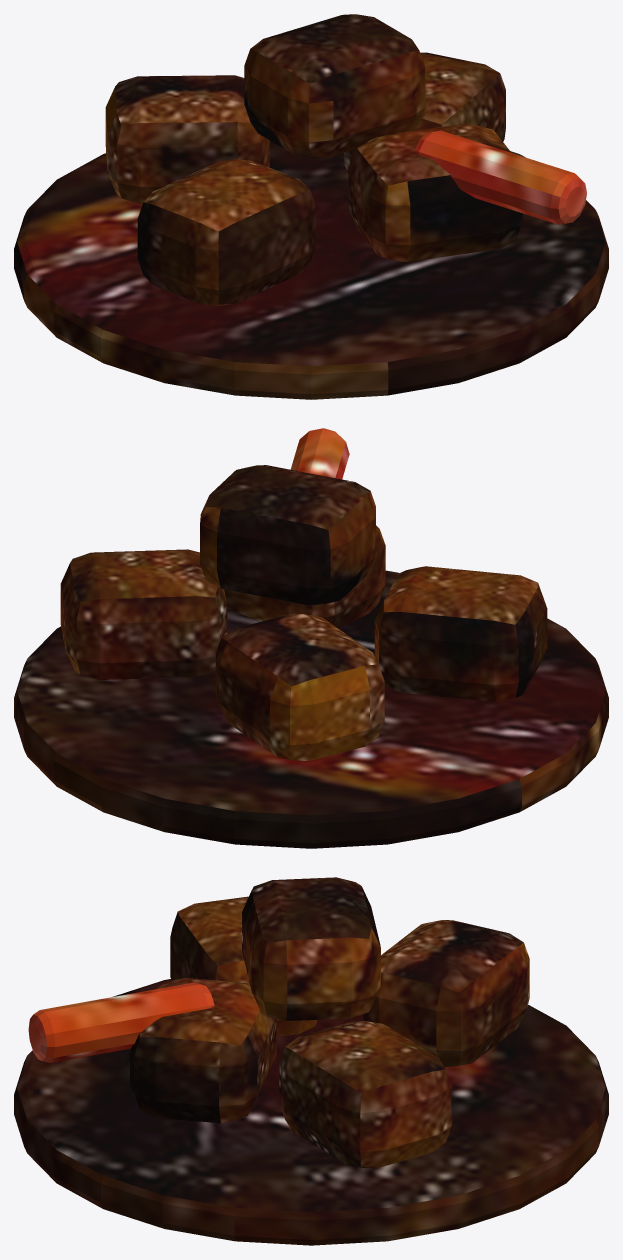
Rendered from Food_rendang.fbx.
3 views of the same model, one above another, from view 1: azimuth 30°, elevation 25°; view 2: azimuth 150°, elevation 25°; view 3: azimuth 270°, elevation 25° (orthographic).
Visible parts, largest first — view 1: Food_rendang; view 2: Food_rendang; view 3: Food_rendang.
Part boxes in pixels (x1=…): Food_rendang: x1=14, y1=14, x2=608, y2=399; Food_rendang: x1=14, y1=428, x2=608, y2=848; Food_rendang: x1=14, y1=877, x2=608, y2=1245.
Size of the model in its own units: 0.11 by 0.048 by 0.11.
